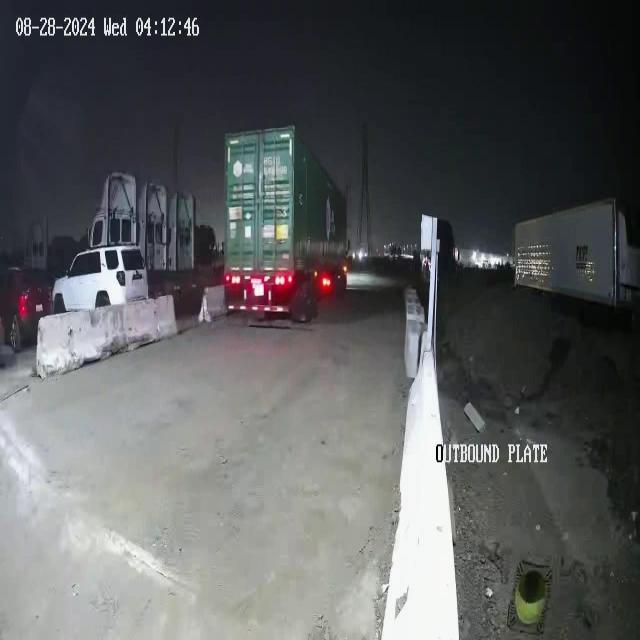CONTAINER: (223, 124, 346, 292)
